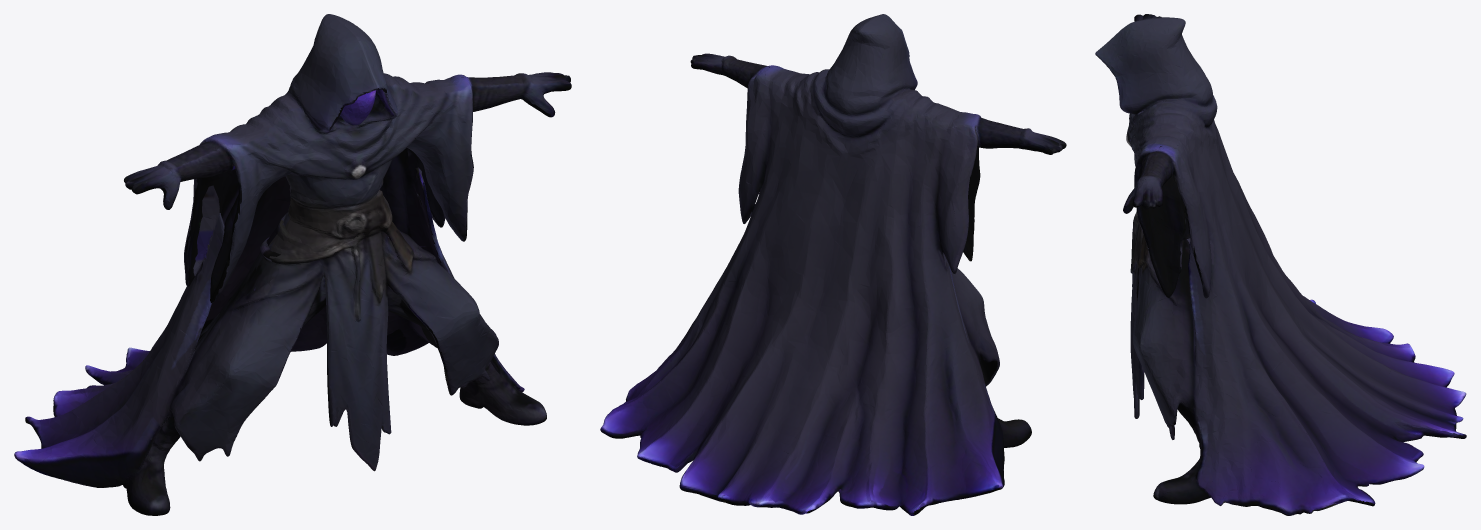
3 renders of one model, left to right at view 1: azimuth 30°, elevation 25°; view 2: azimuth 150°, elevation 25°; view 3: azimuth 270°, elevation 25°, orthographic. The views are drawn at different scales.
Visible parts, largest first — view 1: world; view 2: world; view 3: world.
Boxes of the visible parts, x1,y1,x2,y2 form: world: [14, 14, 571, 515]; world: [600, 14, 1066, 515]; world: [1095, 14, 1466, 515].
Size of the model in its own units: 1.99 by 1.89 by 1.57.
Materials: 1 (1 with a texture image).
